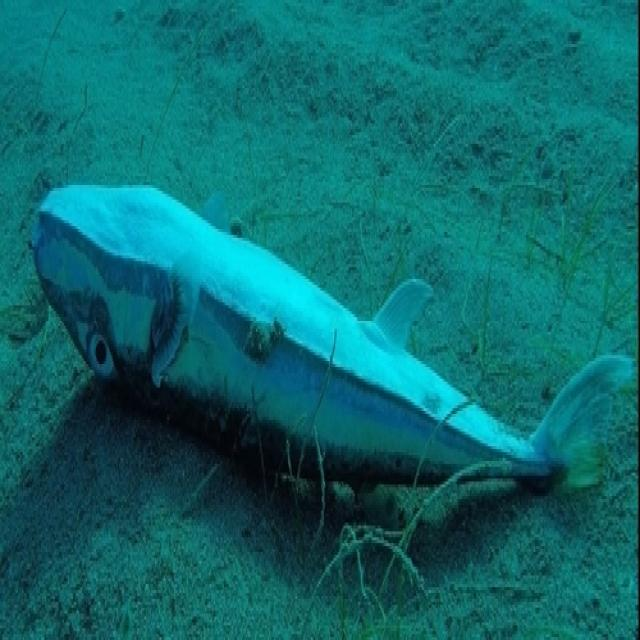Balik: (32, 185, 634, 484)
